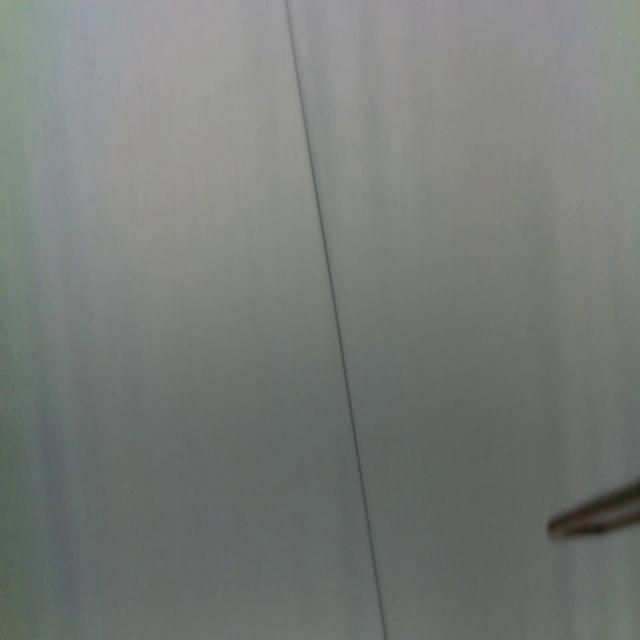crease: (286, 0, 388, 640)
